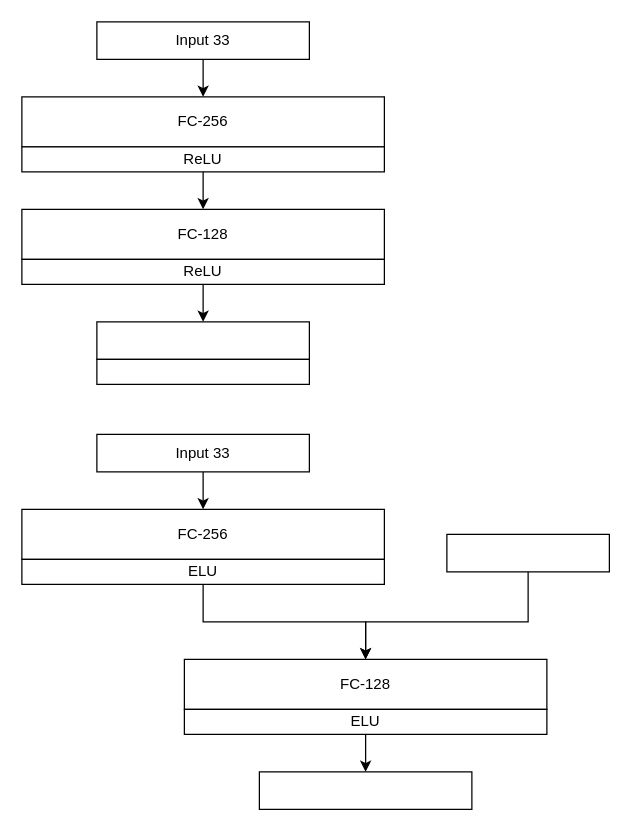
Some shapes in this 631 by 831 pixel diagram are drawn without their labels. The centre of each missing label's shape, as x and y in pixels:
"FC-1" belongs at (365,790).
"FC-4" belongs at (202,340).
"Input 4" belongs at (527,552).
"tanh" belongs at (202,371).
